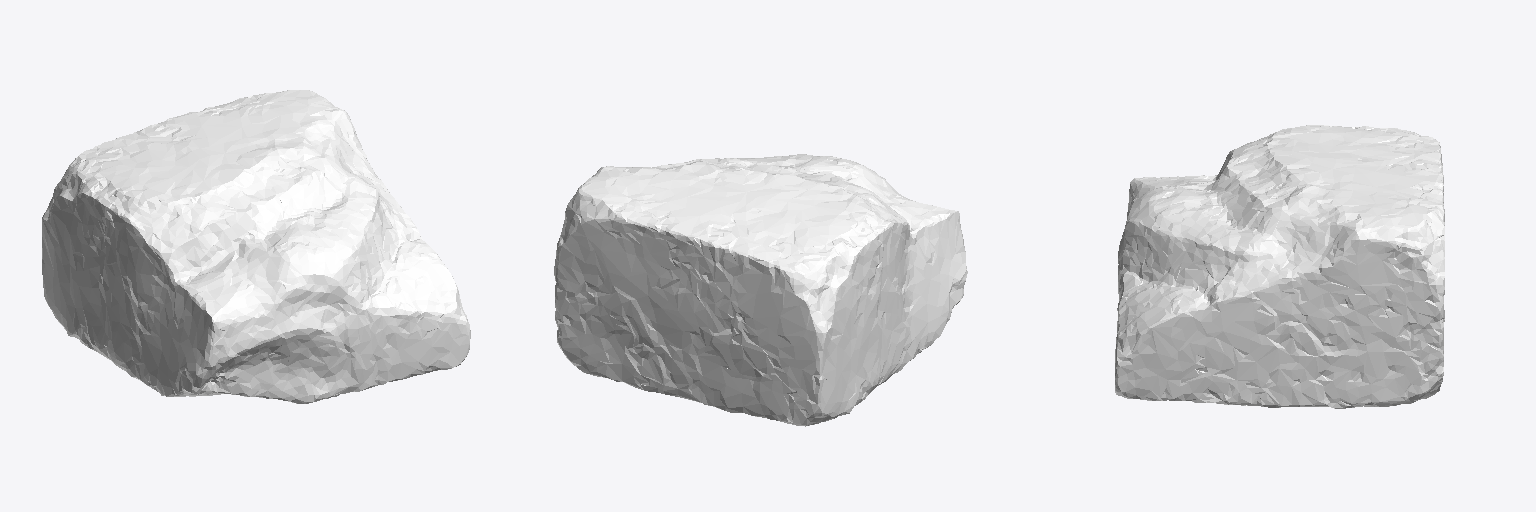
The model's file is stone.obj.
The picture shows the model from 3 angles: view 1: azimuth 30°, elevation 25°; view 2: azimuth 150°, elevation 25°; view 3: azimuth 270°, elevation 25°; orthographic projection.
Visible parts, largest first — view 1: Object.1; view 2: Object.1; view 3: Object.1.
Part boxes in pixels (x1,y1,x2,y2): Object.1: (42, 90, 470, 403); Object.1: (554, 154, 967, 426); Object.1: (1115, 125, 1444, 408).
Size of the model in its own units: 89.74 by 56.49 by 94.31.